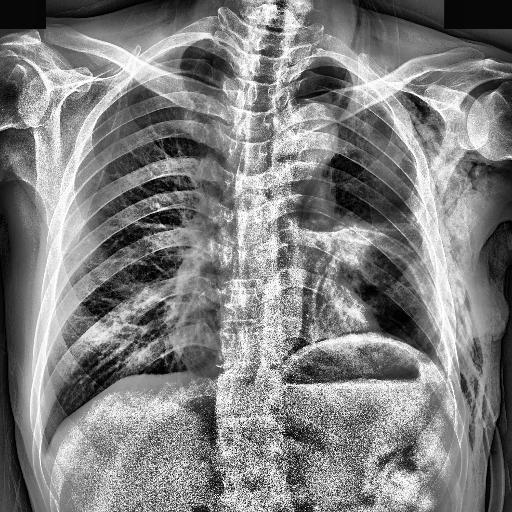0- Aortic enlargement: (274, 100, 340, 172), (279, 100, 337, 169), (287, 98, 337, 166)
10- Pleural effusion: (36, 436, 57, 470)
11- Pleural thickening: (36, 436, 57, 470)
13- Pulmonary fibrosis: (309, 188, 429, 337)
4- Consolidation: (308, 213, 420, 268), (328, 220, 375, 267)
7- Lung Opacity: (308, 213, 420, 268)
8- Nodule-Mass: (329, 223, 372, 269)
9- Other lesion: (411, 90, 501, 473), (402, 82, 482, 480), (442, 122, 508, 485)
